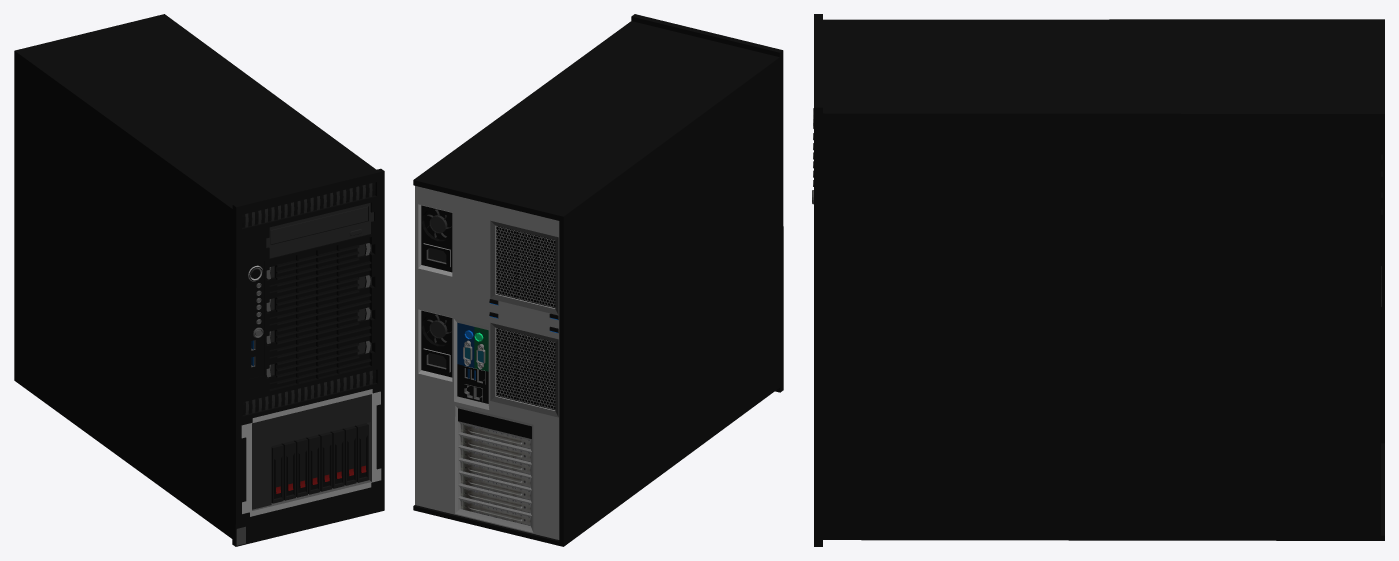
3 renders of one model, left to right at view 1: azimuth 30°, elevation 25°; view 2: azimuth 150°, elevation 25°; view 3: azimuth 270°, elevation 25°, orthographic. The views are drawn at different scales.
Parts seen in each view (by area): view 1: HPE_ML350_G6; view 2: HPE_ML350_G6; view 3: HPE_ML350_G6.
Part boxes in pixels (box(x1,y1,x2,y2)): HPE_ML350_G6: box(14, 14, 384, 546); HPE_ML350_G6: box(413, 14, 783, 546); HPE_ML350_G6: box(812, 14, 1384, 546).
Bounding box in the file's own units: 223 × 481 × 568.
Materials: 19 (2 with a texture image).
